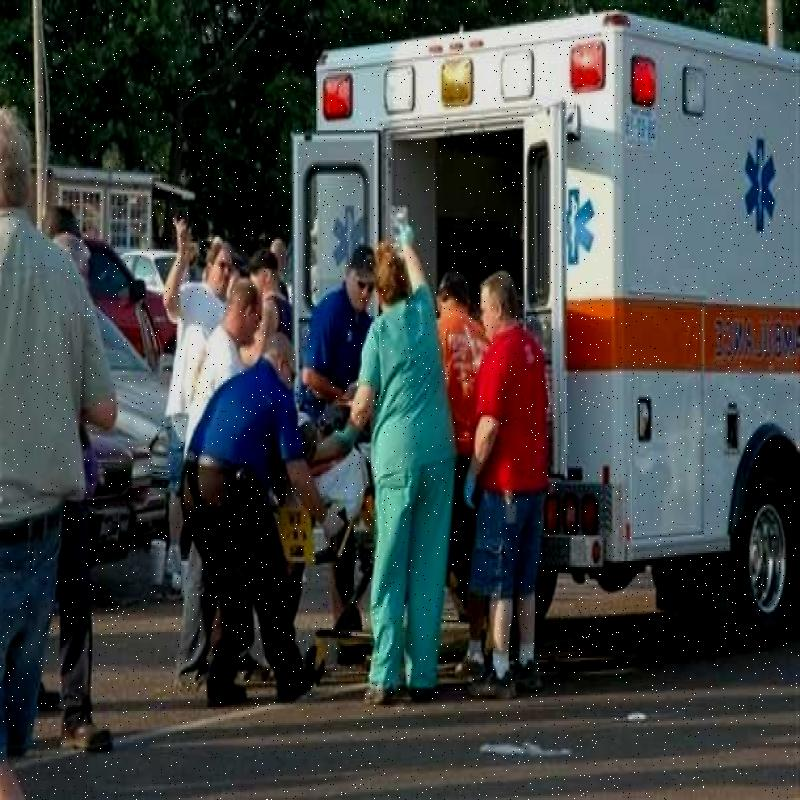AmbulanceSiren: (317, 28, 630, 154)
